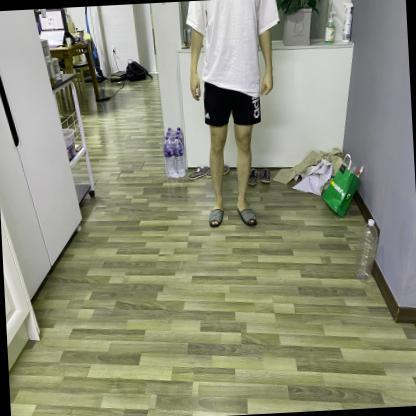no_safety-shoe: (199, 199, 231, 235), (234, 197, 264, 235)
